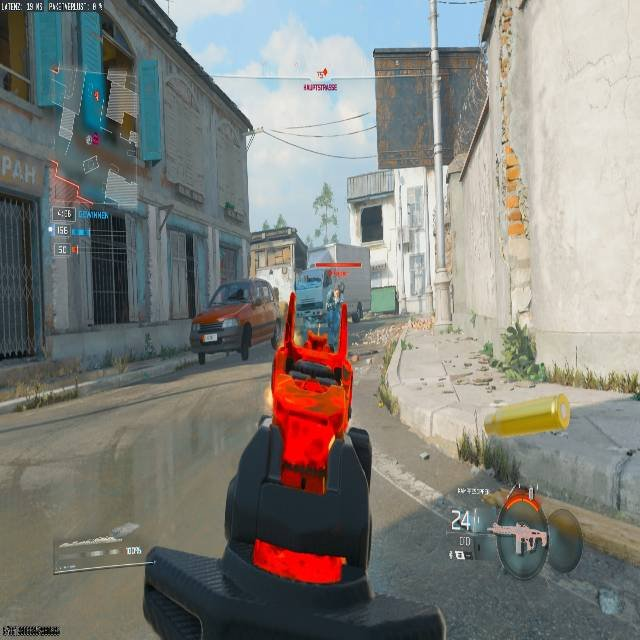head: (331, 279, 344, 295)
player: (312, 280, 362, 357), (333, 282, 343, 303), (355, 302, 363, 320)
